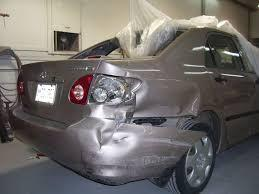Taillight-Damage: (89, 65, 138, 103)
quaterpanel-dent: (150, 64, 216, 115)
rear-bumper-dent: (54, 117, 167, 178)
